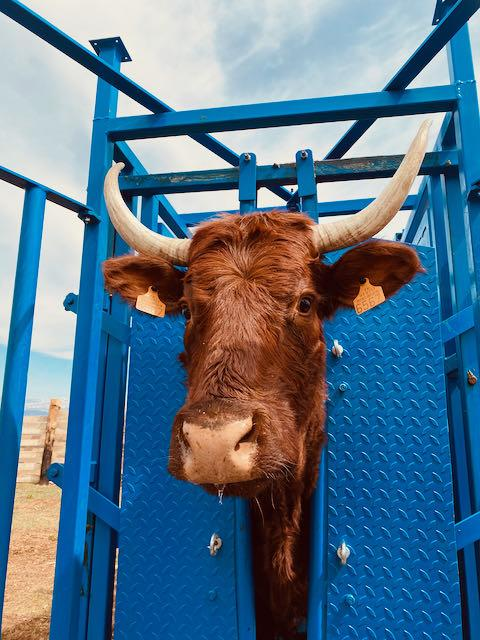muzzles: (156, 410, 285, 485)
